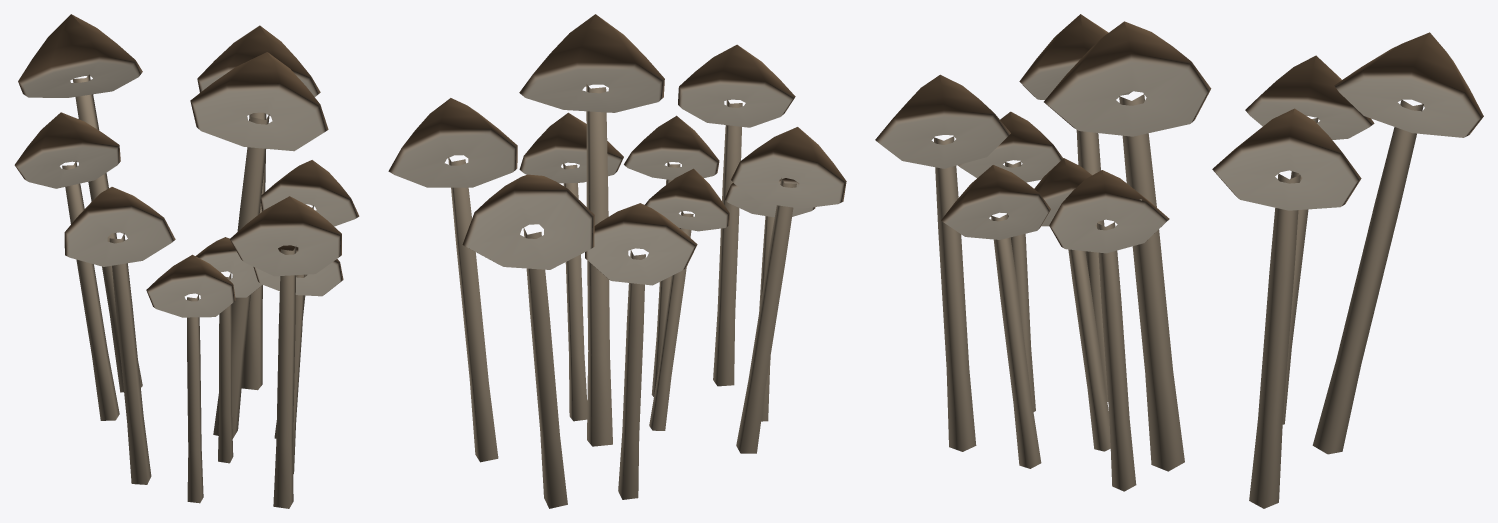
File: mushroom-mycena-a.lod1.glb
3 renders of one model, left to right at view 1: azimuth 30°, elevation 25°; view 2: azimuth 150°, elevation 25°; view 3: azimuth 270°, elevation 25°, orthographic. The views are drawn at different scales.
Visible parts, largest first — view 1: mushroom-mycena-a.lod1; view 2: mushroom-mycena-a.lod1; view 3: mushroom-mycena-a.lod1.
Boxes of the visible parts, x1,y1,x2,y2 form: mushroom-mycena-a.lod1: [14, 14, 359, 508]; mushroom-mycena-a.lod1: [388, 14, 846, 508]; mushroom-mycena-a.lod1: [875, 14, 1483, 508].
Size of the model in its own units: 0.0643 by 0.0721 by 0.0868.
